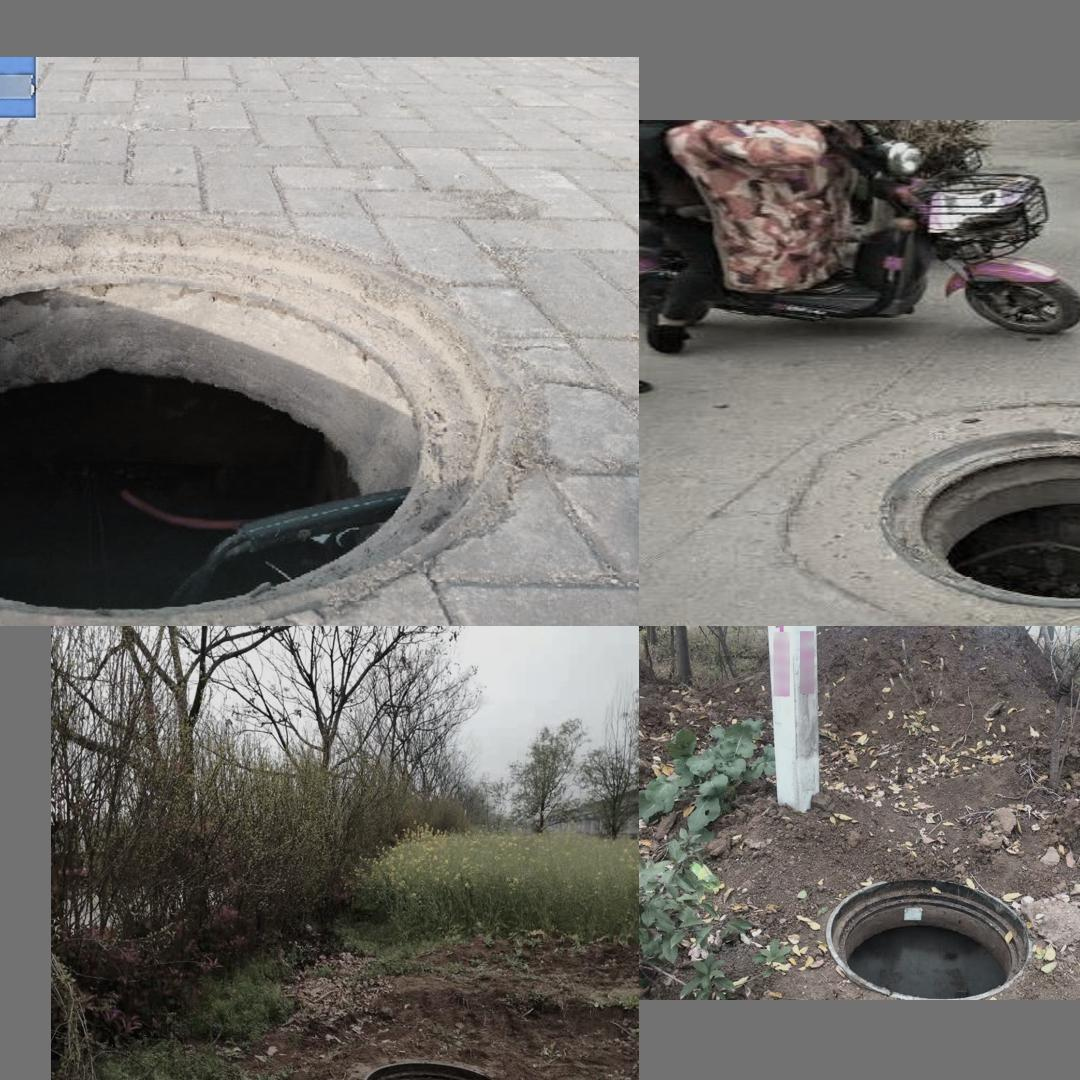lose: (0, 215, 514, 626), (881, 425, 1080, 605), (814, 864, 1071, 999), (346, 1054, 512, 1080)
